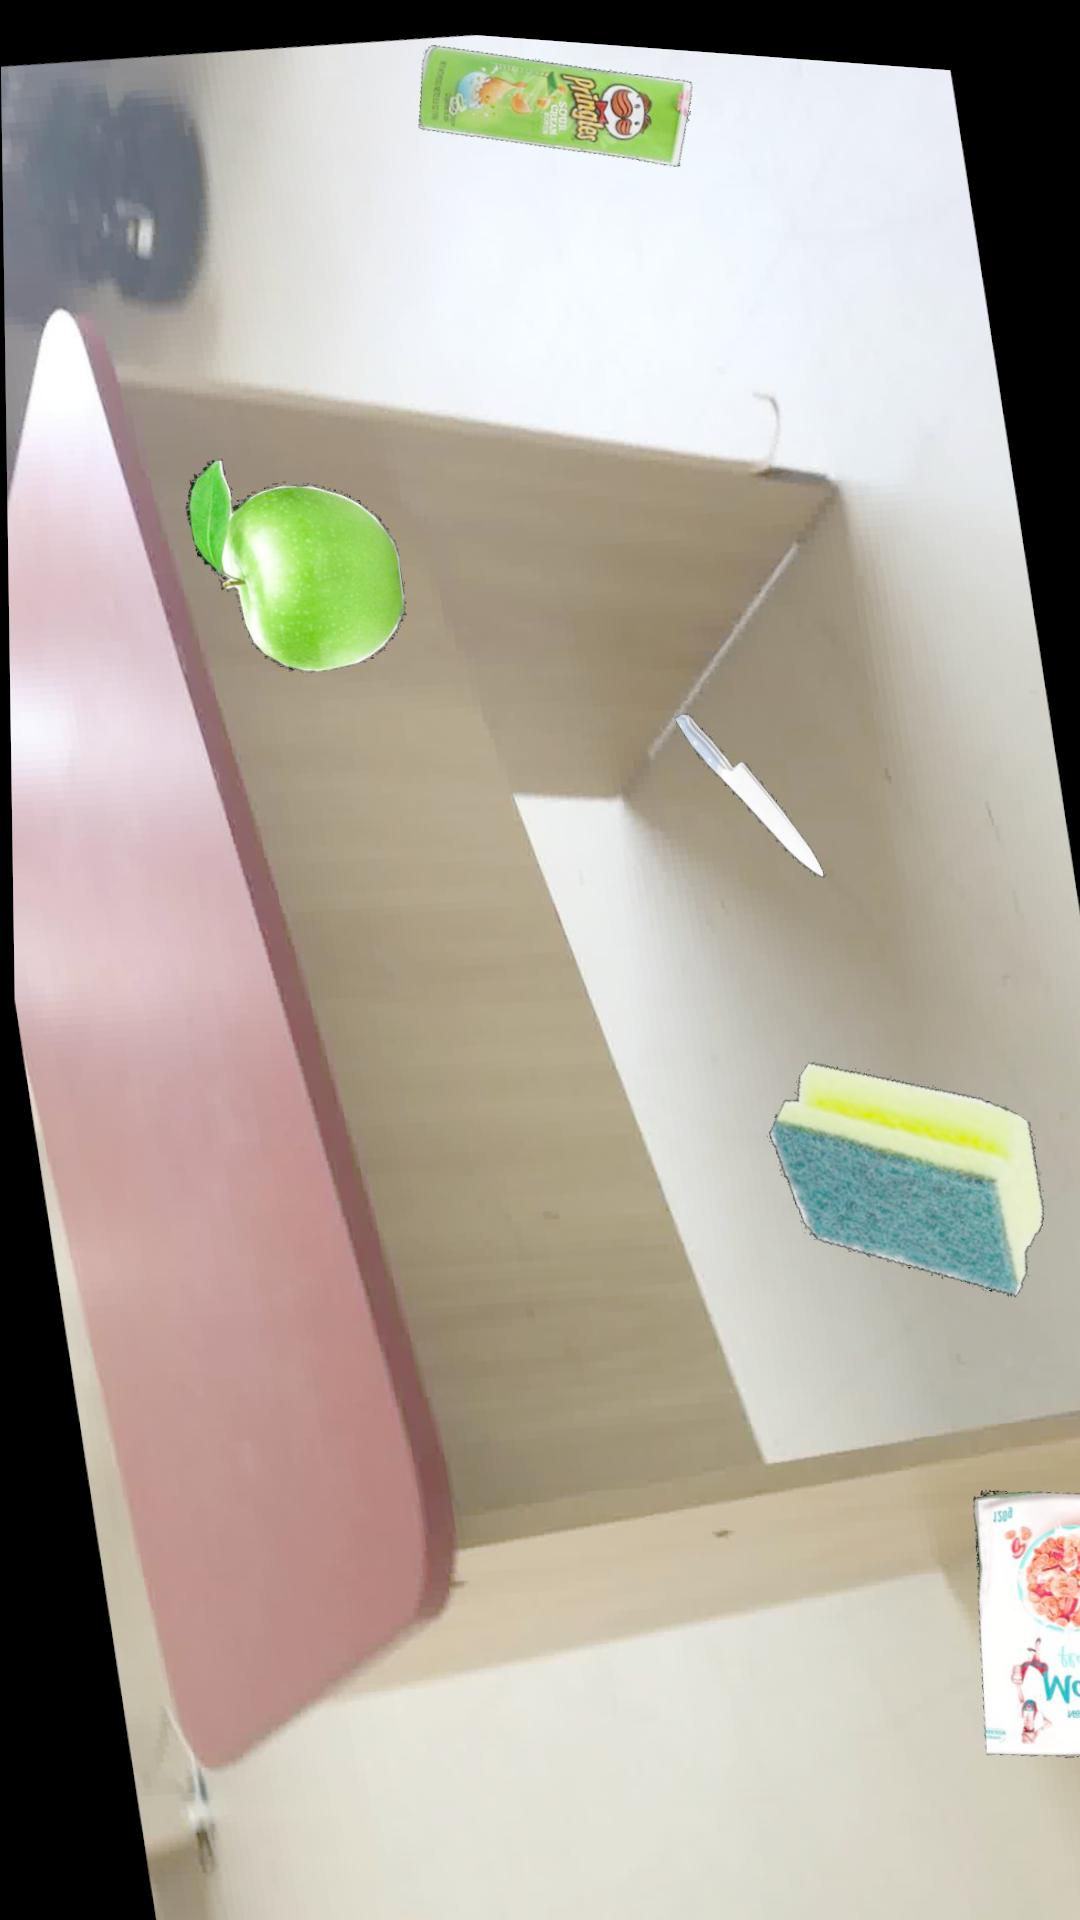corn flakes: (971, 1473, 1080, 1738)
green apple: (186, 454, 406, 665)
knife: (674, 702, 823, 862)
pringles: (419, 36, 694, 154)
sponge: (767, 1048, 1042, 1279)
